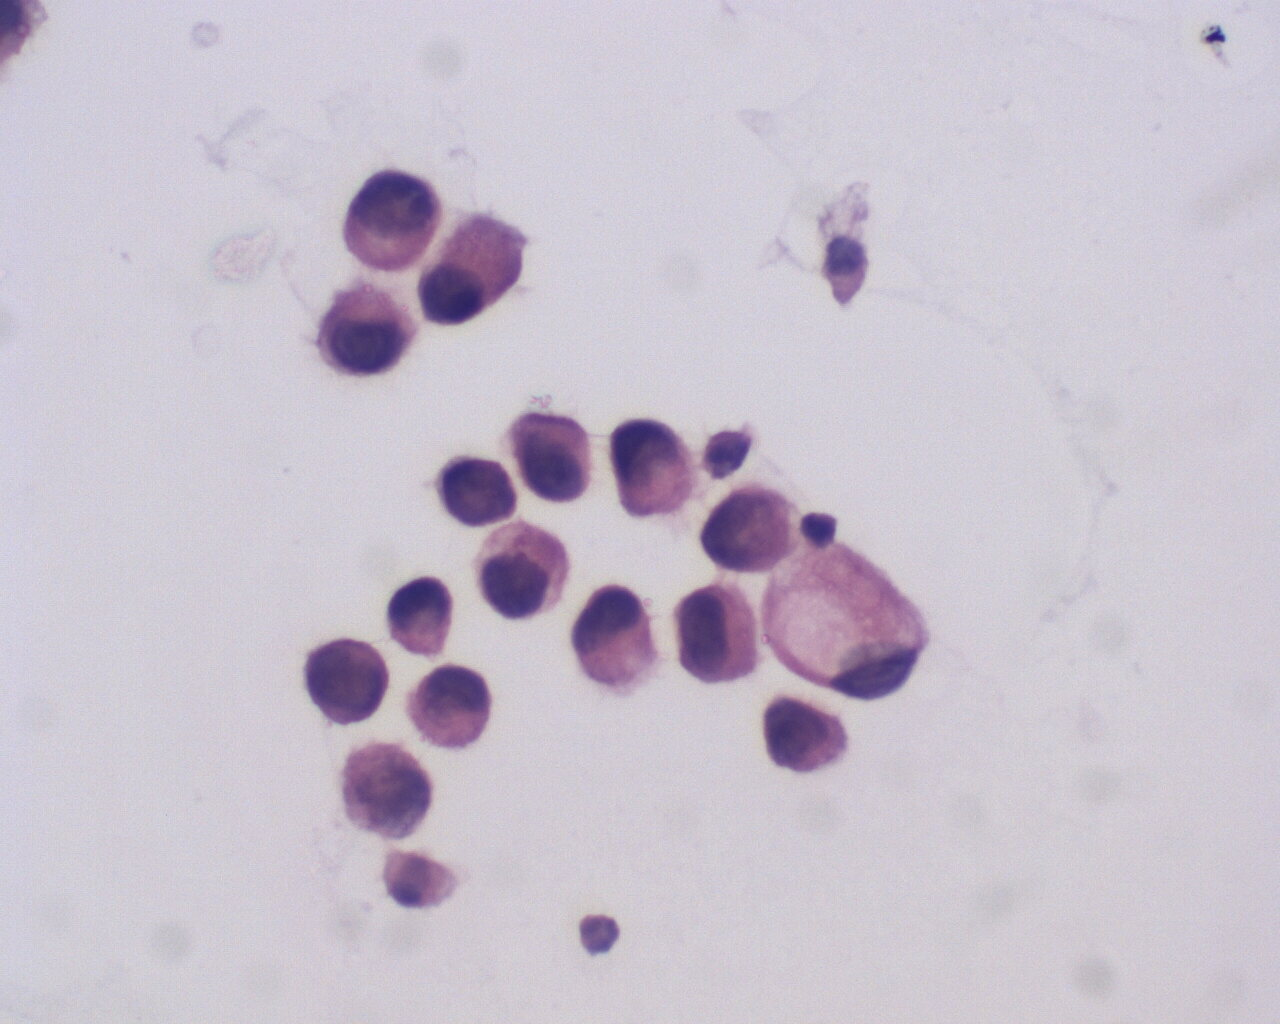ab: (334, 737, 434, 845), (670, 580, 765, 690), (601, 417, 701, 518), (344, 163, 440, 267), (315, 282, 419, 377), (574, 579, 658, 693), (700, 480, 796, 576), (506, 404, 595, 504), (297, 635, 393, 725), (760, 688, 850, 782), (433, 447, 523, 534), (386, 575, 467, 659)
histo: (755, 542, 936, 703)
meso: (472, 519, 572, 623)
